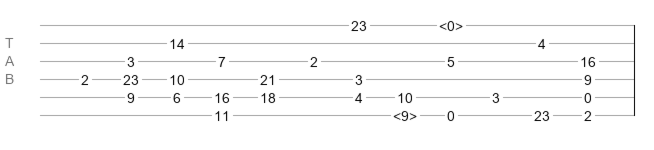0: (447, 108, 455, 118), (584, 90, 592, 100)
10: (169, 72, 185, 82), (397, 90, 413, 100)
11: (214, 108, 230, 118)
14: (169, 36, 185, 46)
16: (214, 90, 230, 100), (580, 54, 596, 64)
18: (260, 90, 276, 100)
2: (81, 72, 89, 82), (310, 54, 318, 64), (584, 108, 592, 118)
21: (260, 72, 276, 82)
23: (123, 72, 139, 82), (351, 18, 367, 28), (534, 108, 550, 118)
3: (127, 54, 135, 64), (355, 72, 363, 82), (492, 90, 500, 100)
4: (355, 90, 363, 100), (538, 36, 546, 46)
5: (447, 54, 455, 64)
6: (173, 90, 181, 100)
7: (218, 54, 226, 64)
9: (127, 90, 135, 100), (584, 72, 592, 82)
harmonic: (393, 108, 417, 118), (439, 18, 463, 28)
